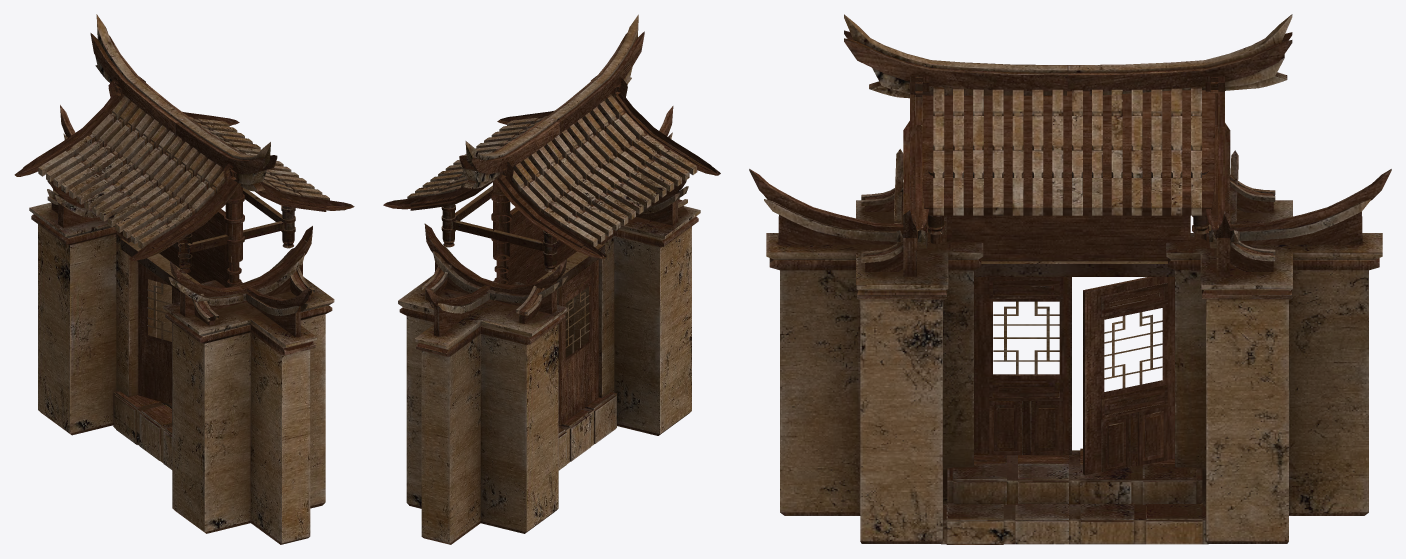
The model's file is cn_temple.glb.
3 views of the same model, side by side, from view 1: azimuth 30°, elevation 25°; view 2: azimuth 150°, elevation 25°; view 3: azimuth 270°, elevation 25° (orthographic). The views are drawn at different scales.
Parts seen in each view (by area): view 1: Cube.007, Cube.008, Cube.001, Cube.006, Circle, Cube.003, Cube.028, Cube.026, Cube.004, Cube, Circle.004, Cube.021 (+10 smaller); view 2: Cube.008, Cube.007, Cube.001, Cube.011, Cube.006, Circle, Cube.003, Cube.028, Cube.004, Circle.003, Cube, Cube.015 (+9 smaller); view 3: Cube.008, Cube.007, Cube.001, Cube, Cube.026, Cube.011, Cube.010, Circle, Cube.009, Cube.003, Cube.004, Cube.006 (+11 smaller).
Boxes of the visible parts, x1,y1,x2,y2 form: Cube.007: (163,277,334,544); Cube.008: (29,181,171,435); Cube.001: (38,95,329,248); Cube.006: (14,76,354,261); Circle: (159,186,244,287); Cube.003: (90,33,277,174); Cube.028: (113,391,172,469); Cube.026: (138,262,171,403); Cube.004: (96,14,270,168); Cube: (59,94,326,248); Circle.004: (187,199,295,252); Cube.021: (246,287,309,337); Cube.008: (398,275,567,544); Cube.007: (557,206,700,435); Cube.001: (407,94,697,246); Cube.011: (558,259,598,424); Cube.006: (383,76,720,259); Circle: (491,181,576,284); Cube.003: (459,31,644,174); Cube.028: (558,392,616,470); Cube.004: (465,14,638,167); Circle.003: (441,185,543,251); Cube: (410,98,669,247); Cube.015: (425,285,490,336); Cube.008: (1166,200,1382,543); Cube.007: (766,200,983,543); Cube.001: (933,87,1201,215); Cube: (922,90,1215,215); Cube.026: (1083,277,1174,475); Cube.011: (974,277,1071,455); Cube.010: (941,503,1208,544); Circle: (927,215,1209,261); Cube.009: (947,464,1202,504); Cube.003: (844,30,1292,91); Cube.004: (844,14,1292,72); Cube.006: (910,76,1224,229).
Size of the model in its own units: 1191 by 1965 by 2313.
Materials: 1 (1 with a texture image).
